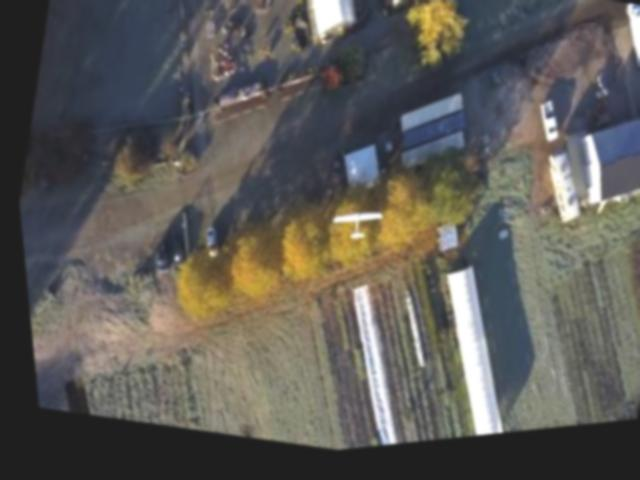uav: (316, 203, 385, 258)
